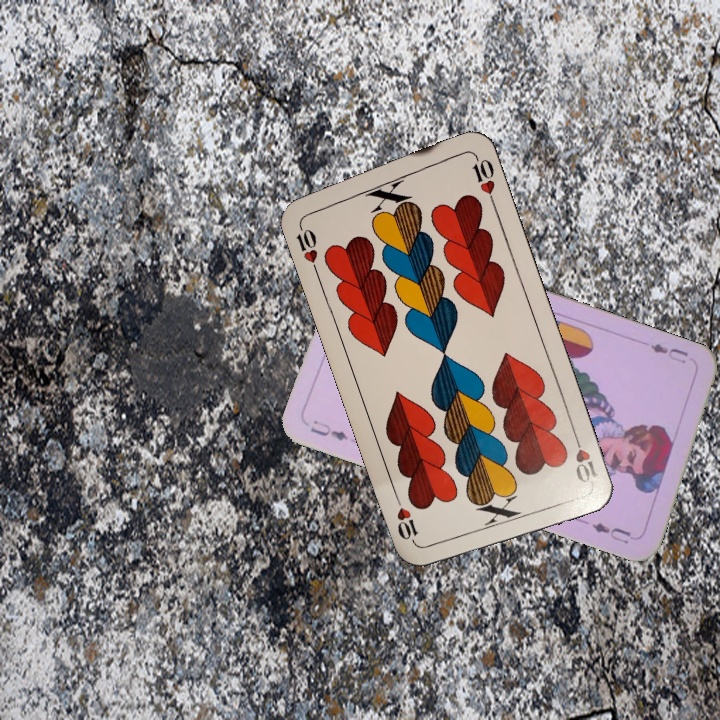EU: (306, 416, 351, 444), (646, 339, 691, 366)
H10: (569, 428, 601, 486), (292, 217, 321, 275)
